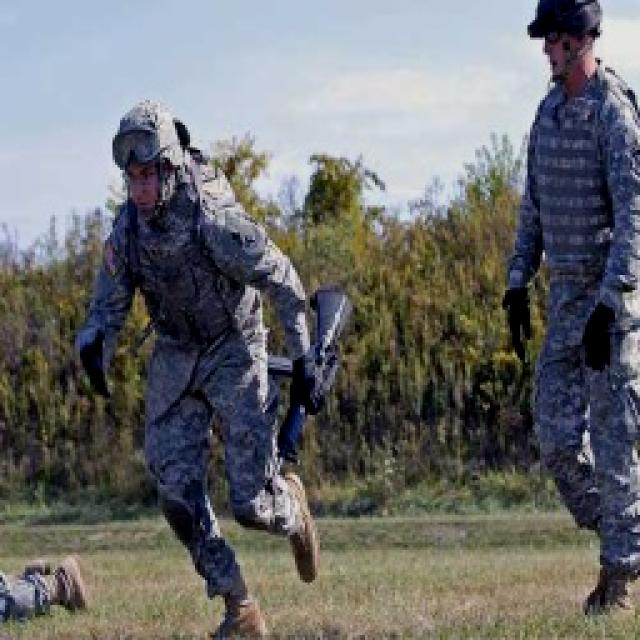long weapon: (261, 272, 375, 502)
